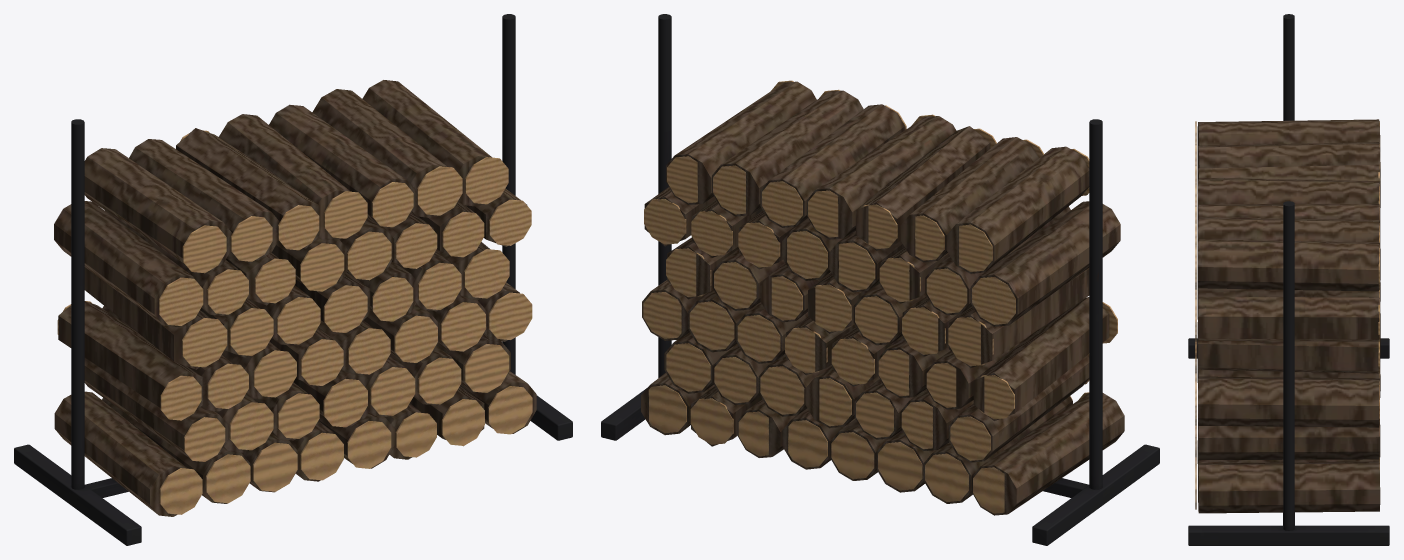
The model's file is tall-rack.glb.
3 views of the same model, side by side, from view 1: azimuth 30°, elevation 25°; view 2: azimuth 150°, elevation 25°; view 3: azimuth 270°, elevation 25° (orthographic). The views are drawn at different scales.
Visible parts, largest first — view 1: bark, endgrain, steel_rack; view 2: bark, endgrain, steel_rack; view 3: bark, steel_rack, endgrain.
Boxes of the visible parts, x1,y1,x2,y2 form: bark: (54,80,536,516); endgrain: (57,130,532,514); steel_rack: (14,14,572,545); bark: (641,81,1124,515); endgrain: (643,80,1117,513); steel_rack: (601,14,1159,545); bark: (1197,119,1380,513); steel_rack: (1188,14,1389,545); endgrain: (1195,121,1379,509).
Bounding box in the file's own units: 1.14 × 0.93 × 0.5.
Materials: 3 (3 with a texture image).
